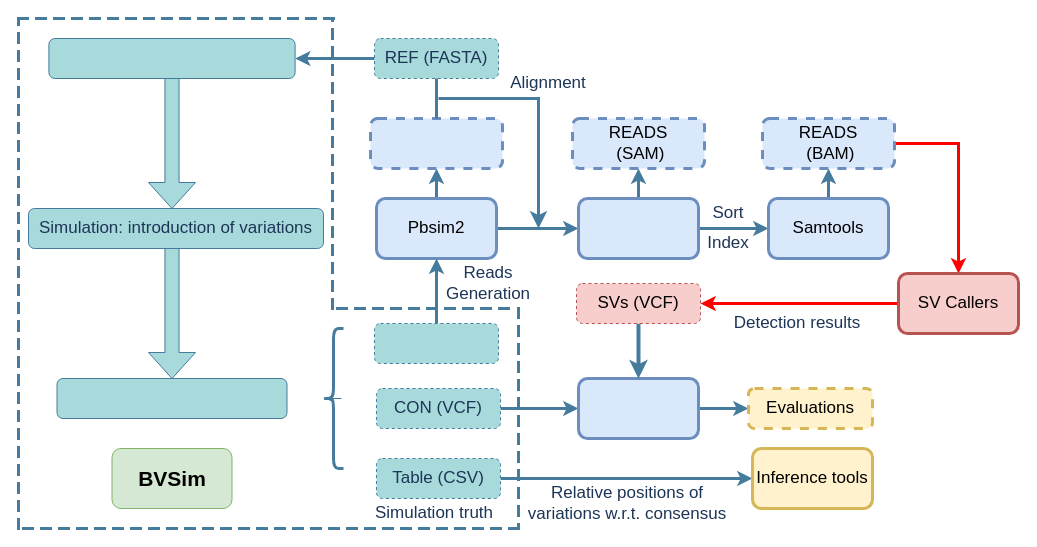
Image size: 1037x547. Some labels were removed from this diagram. Here are the shapes that lost their labels. From the top down, the box of each, then its label:
(48, 38, 295, 78): Input: reference genome
(368, 116, 504, 170): READS (FASTQ)
(576, 196, 700, 260): Minimap2
(374, 322, 498, 364): CON (FASTA)
(56, 378, 287, 418): Output: standard format
(576, 376, 700, 440): Turvari
